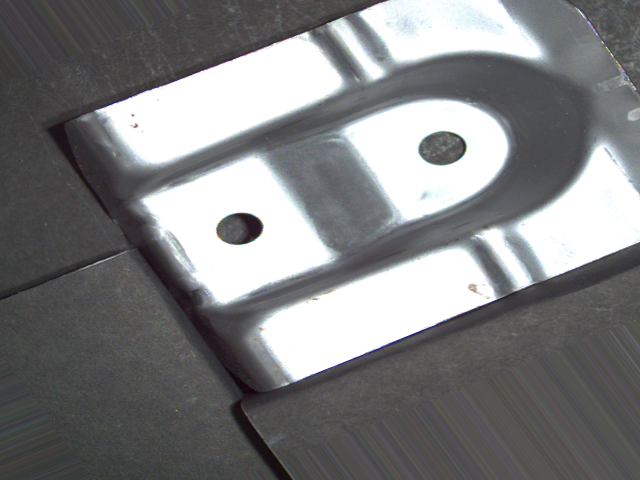defect: (415, 128, 470, 167)
